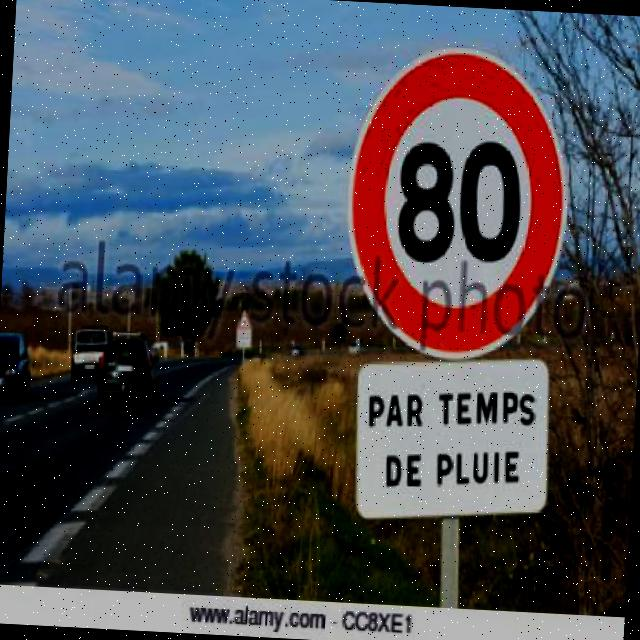Ograniczenie predkosci do 80: (360, 75, 550, 347)
